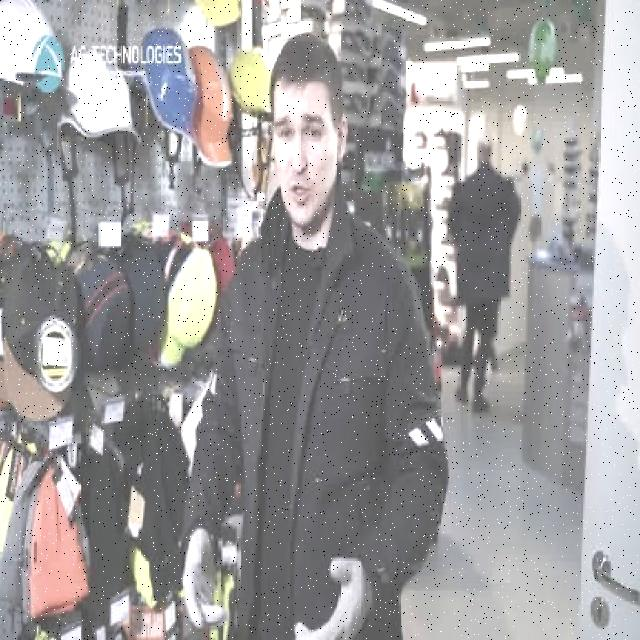Gloves: (294, 546, 376, 639), (182, 525, 230, 630)
Helmet: (132, 30, 200, 148), (55, 54, 140, 148), (0, 5, 69, 96), (186, 48, 232, 172), (232, 44, 276, 118)
